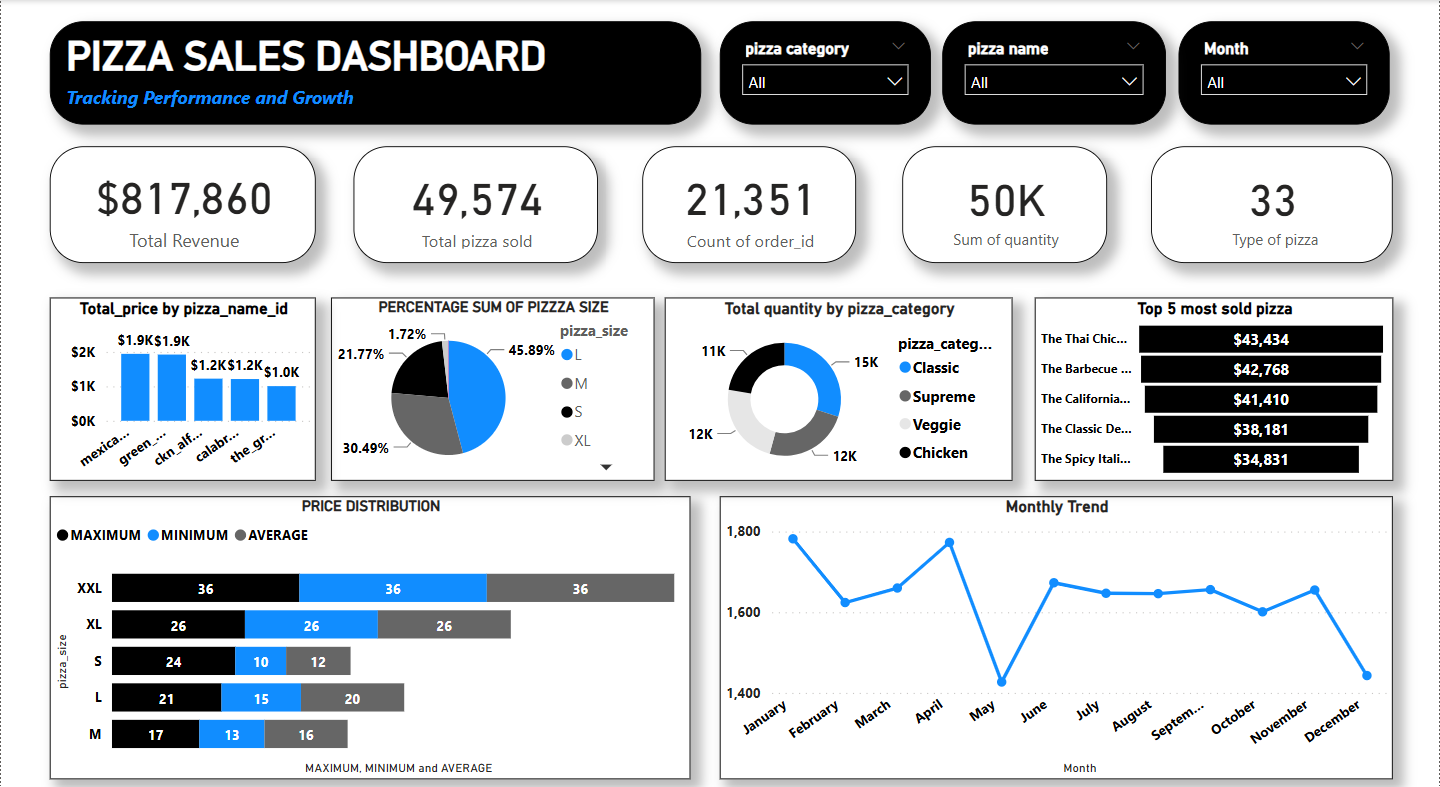

Layout of this report page (visuals, bound fields, positions):
{"tool":"powerbi","page":{"name":"Page 1","canvas":[1280,720],"ordinal":0},"visuals":[{"type":"textbox","title":"PIZZA SALES DASHBOARD","box":[43.4,19.3,580.1,91.7],"z":0},{"type":"card","fields":{"Values":["Sum(pizza_sales.total_price)"]},"box":[43.9,130.2,237.2,104.2],"z":1000},{"type":"card","fields":{"Values":["Sum(pizza_sales.quantity)"]},"box":[314,130.2,218,104.2],"z":2000},{"type":"card","fields":{"Values":["Count(pizza_sales.order_id)"]},"box":[570.4,130.2,190.6,104.2],"z":3000},{"type":"lineChart","title":"Monthly Trend","fields":{"Category":["pizza_sales.order_date.Variation.Date Hierarchy.Month"],"Y":["CountNonNull(pizza_sales.order_id)"]},"box":[640.3,441.5,599.1,252.3],"z":4000},{"type":"card","fields":{"Values":["Sum(pizza_sales.quantity)"]},"box":[802.1,130.2,182.3,104.2],"z":5000},{"type":"card","fields":{"Values":["Count(pizza_sales.pizza_name)"]},"box":[1024.2,130.2,215.3,104.2],"z":6000},{"type":"slicer","fields":{"Values":["pizza_sales.order_date.Variation.Date Hierarchy.Month"]},"box":[1048,19.3,188.1,91.7],"z":7000},{"type":"barChart","title":"PRICE DISTRIBUTION","fields":{"Category":["pizza_sales.pizza_size"],"Y":["pizza_sales.MAXIMUM","pizza_sales.MINIMUM","pizza_sales.AVERAGE"]},"box":[43.9,441.5,570.4,252.3],"z":8000},{"type":"pieChart","title":"PERCENTAGE SUM OF PIZZZA SIZE","fields":{"Category":["pizza_sales.pizza_size"],"Y":["Divide(Sum(pizza_sales.total_price), ScopedEval(Sum(pizza_sales.total_price), []))"]},"box":[293.4,264.6,287.9,163.2],"z":9000},{"type":"donutChart","title":"Total quantity by pizza_category","fields":{"Category":["pizza_sales.pizza_category"],"Y":["Sum(pizza_sales.quantity)"]},"box":[590.9,264.6,309.9,163.2],"z":10000},{"type":"clusteredColumnChart","title":" Total_price by pizza_name_id","fields":{"Category":["pizza_sales.pizza_name_id"],"Y":["Sum(pizza_sales.total_price)"]},"box":[43.9,264.6,237.2,163.2],"z":11000},{"type":"funnel","title":"Top 5 most sold pizza","fields":{"Category":["pizza_sales.pizza_name"],"Y":["Sum(pizza_sales.total_price)"]},"box":[920,264.6,319.5,163.2],"z":12000},{"type":"slicer","fields":{"Values":["pizza_sales.pizza_category"]},"box":[640.4,19.3,188.1,91.7],"z":12001},{"type":"slicer","fields":{"Values":["pizza_sales.pizza_name"]},"box":[838.2,19.3,199,91.7],"z":12002}]}

Visuals, with their boxes in screenshot pixels (x1, y1, x2, y2), scaled from the page's 1280x720 canvas onto the 1440x787 screenshot:
"PIZZA SALES DASHBOARD" textbox: (x1=49, y1=21, x2=701, y2=121)
card - Sum(pizza_sales.total_price): (x1=49, y1=142, x2=316, y2=256)
card - Sum(pizza_sales.quantity): (x1=353, y1=142, x2=598, y2=256)
card - Count(pizza_sales.order_id): (x1=642, y1=142, x2=856, y2=256)
"Monthly Trend" lineChart: (x1=720, y1=483, x2=1394, y2=758)
card - Sum(pizza_sales.quantity): (x1=902, y1=142, x2=1107, y2=256)
card - Count(pizza_sales.pizza_name): (x1=1152, y1=142, x2=1394, y2=256)
slicer - pizza_sales.order_date.Variation.Date Hierarchy.Month: (x1=1179, y1=21, x2=1391, y2=121)
"PRICE DISTRIBUTION" barChart: (x1=49, y1=483, x2=691, y2=758)
"PERCENTAGE SUM OF PIZZZA SIZE" pieChart: (x1=330, y1=289, x2=654, y2=468)
"Total quantity by pizza_category" donutChart: (x1=665, y1=289, x2=1013, y2=468)
" Total_price by pizza_name_id" clusteredColumnChart: (x1=49, y1=289, x2=316, y2=468)
"Top 5 most sold pizza" funnel: (x1=1035, y1=289, x2=1394, y2=468)
slicer - pizza_sales.pizza_category: (x1=720, y1=21, x2=932, y2=121)
slicer - pizza_sales.pizza_name: (x1=943, y1=21, x2=1167, y2=121)
